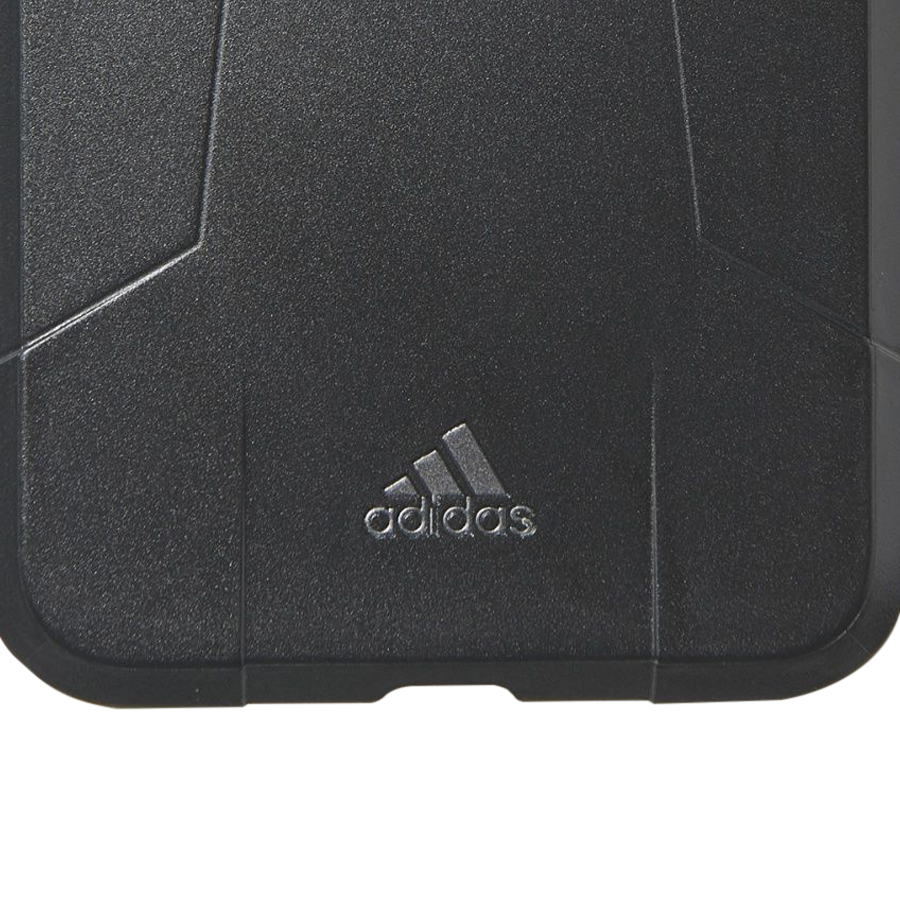Adidas: (359, 419, 542, 548)
